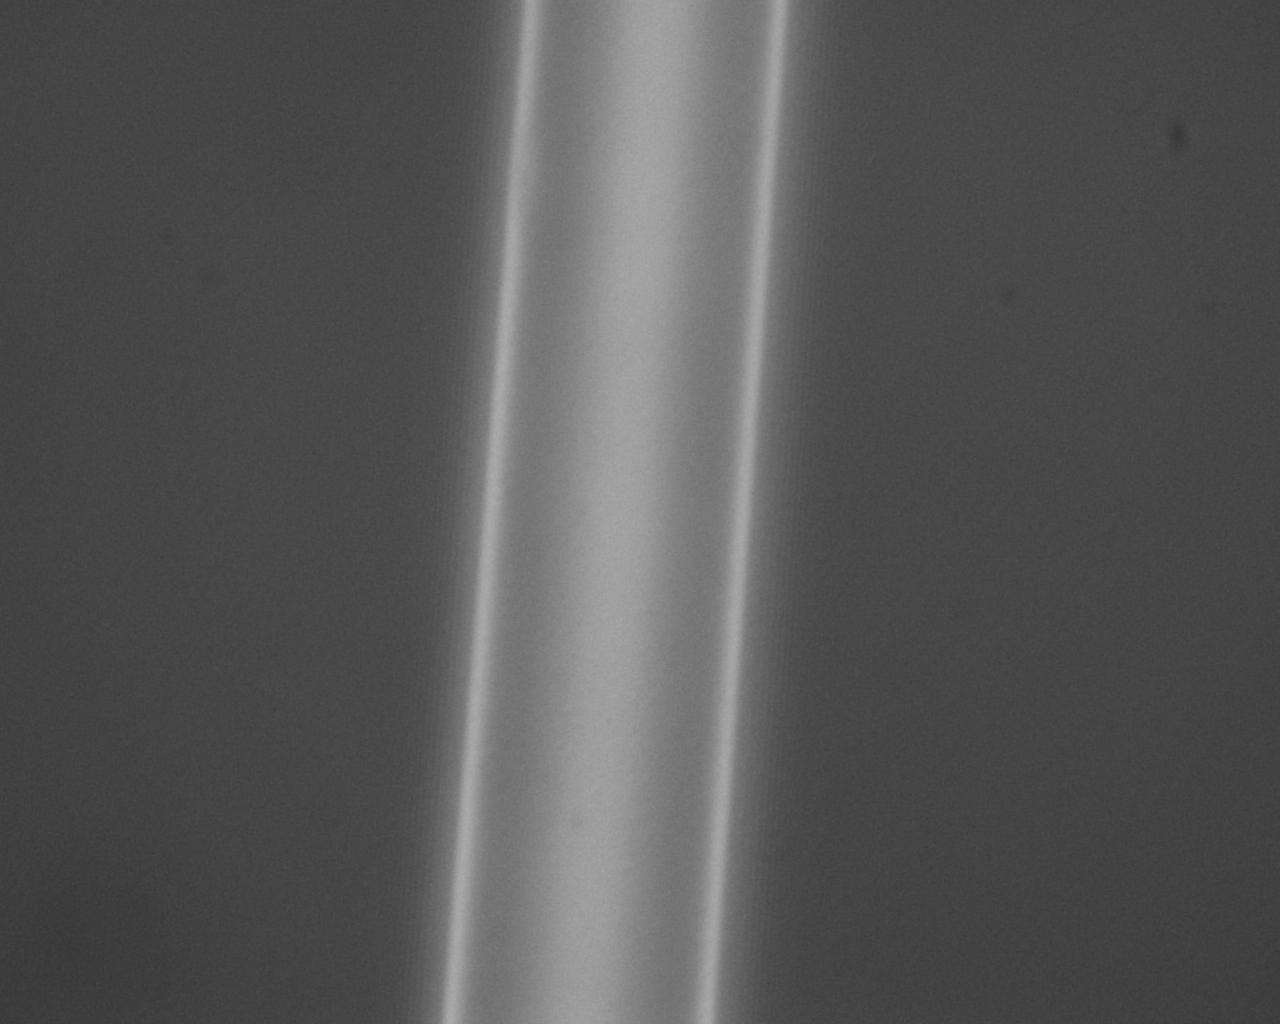fiber: (763, 471, 929, 1024), (422, 0, 577, 471), (1132, 0, 1240, 471)
